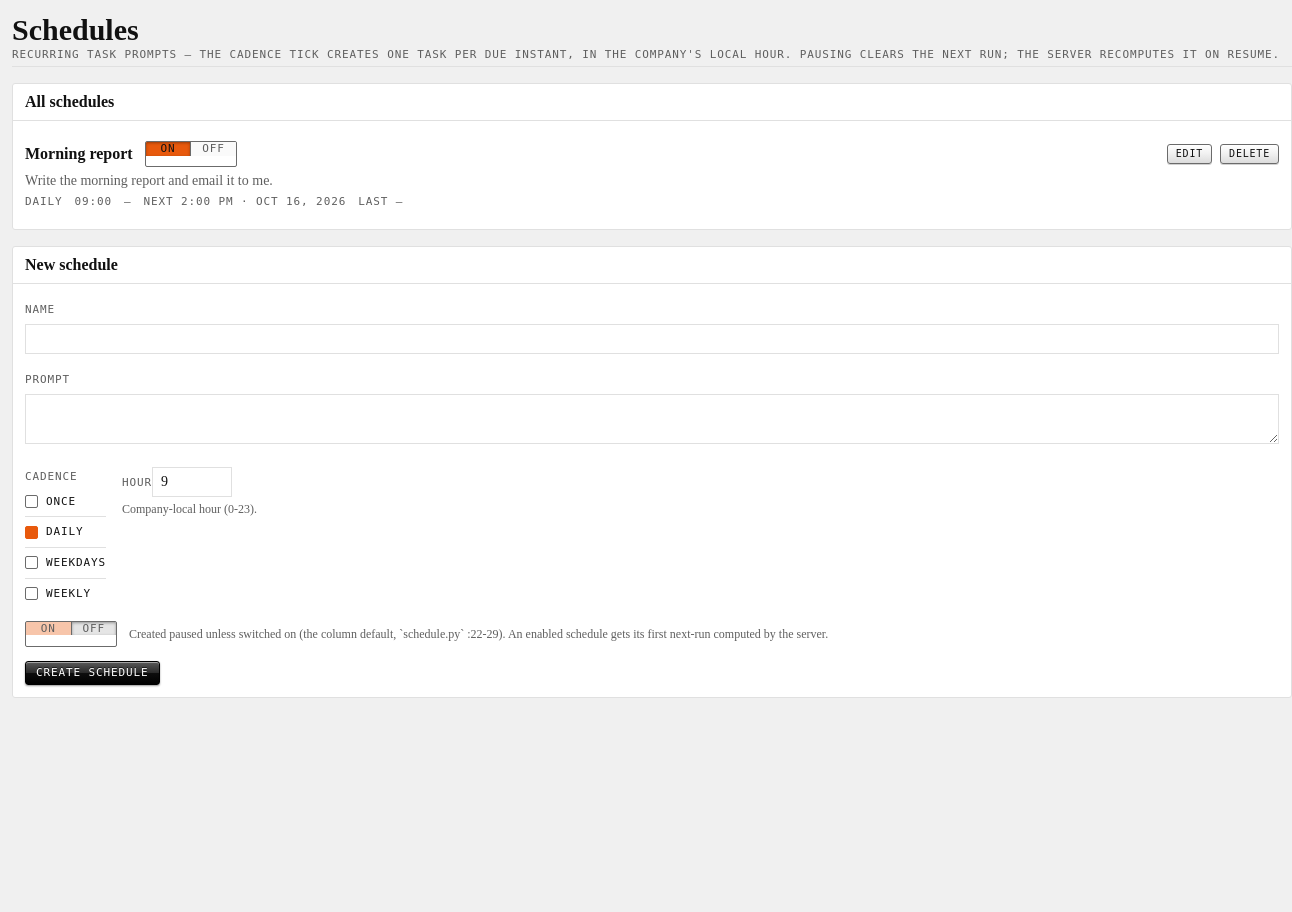
SchedulesPage — pause/resume (PATCH /schedules/{id}) › renders a pause refusal by name — the switch snaps back to the server's state
The width and height of the screenshot is (1292, 912).
Click the switch labelled "ON OFF" below "All schedules" at (191, 154), box x1=145 y1=141 x2=237 y2=167
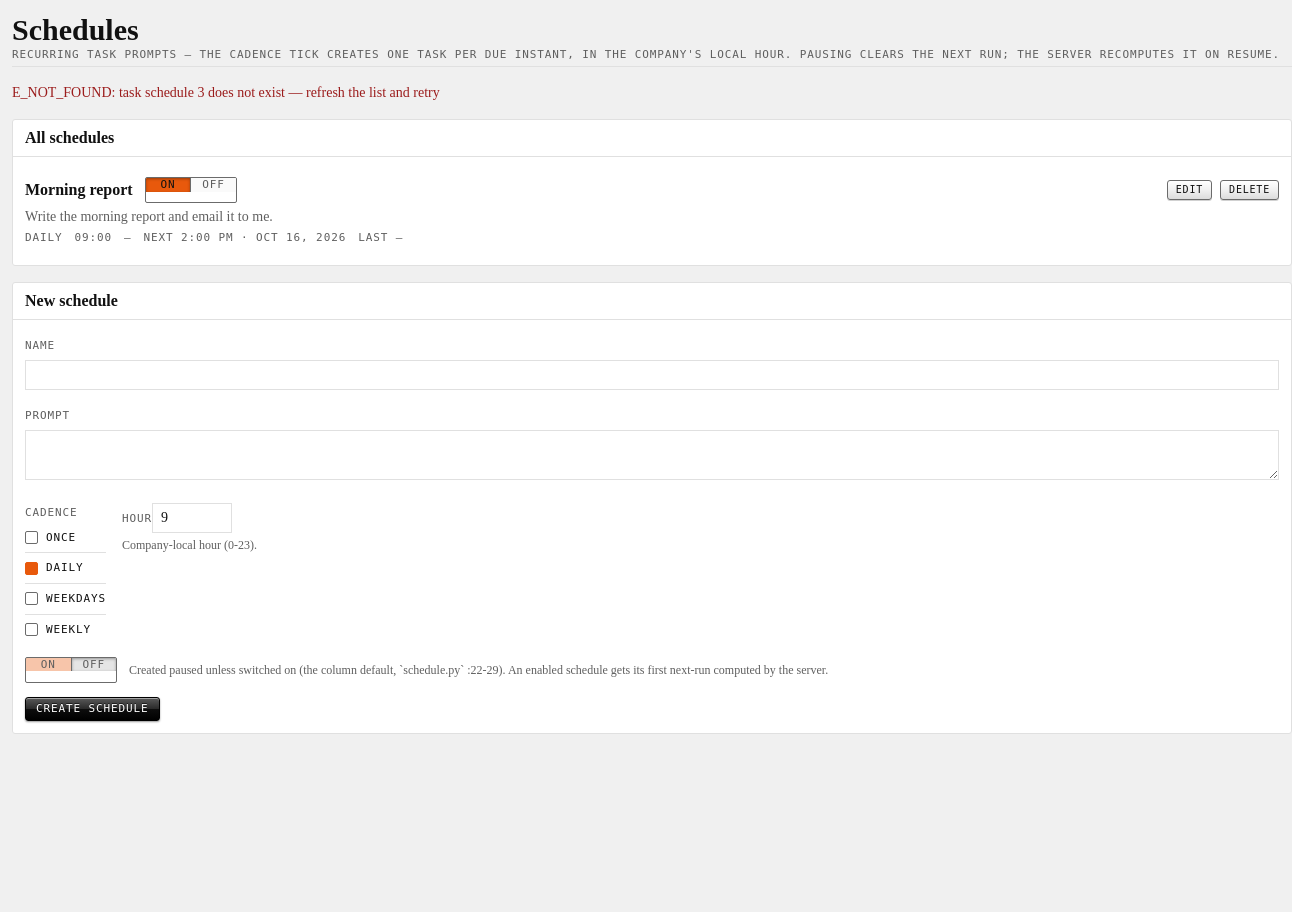
Expected: the message with test id "schedules-action-error" reads "E_NOT_FOUND: task schedule 3 does not exist — refresh the list and retry", x1=12 y1=85 x2=440 y2=100
